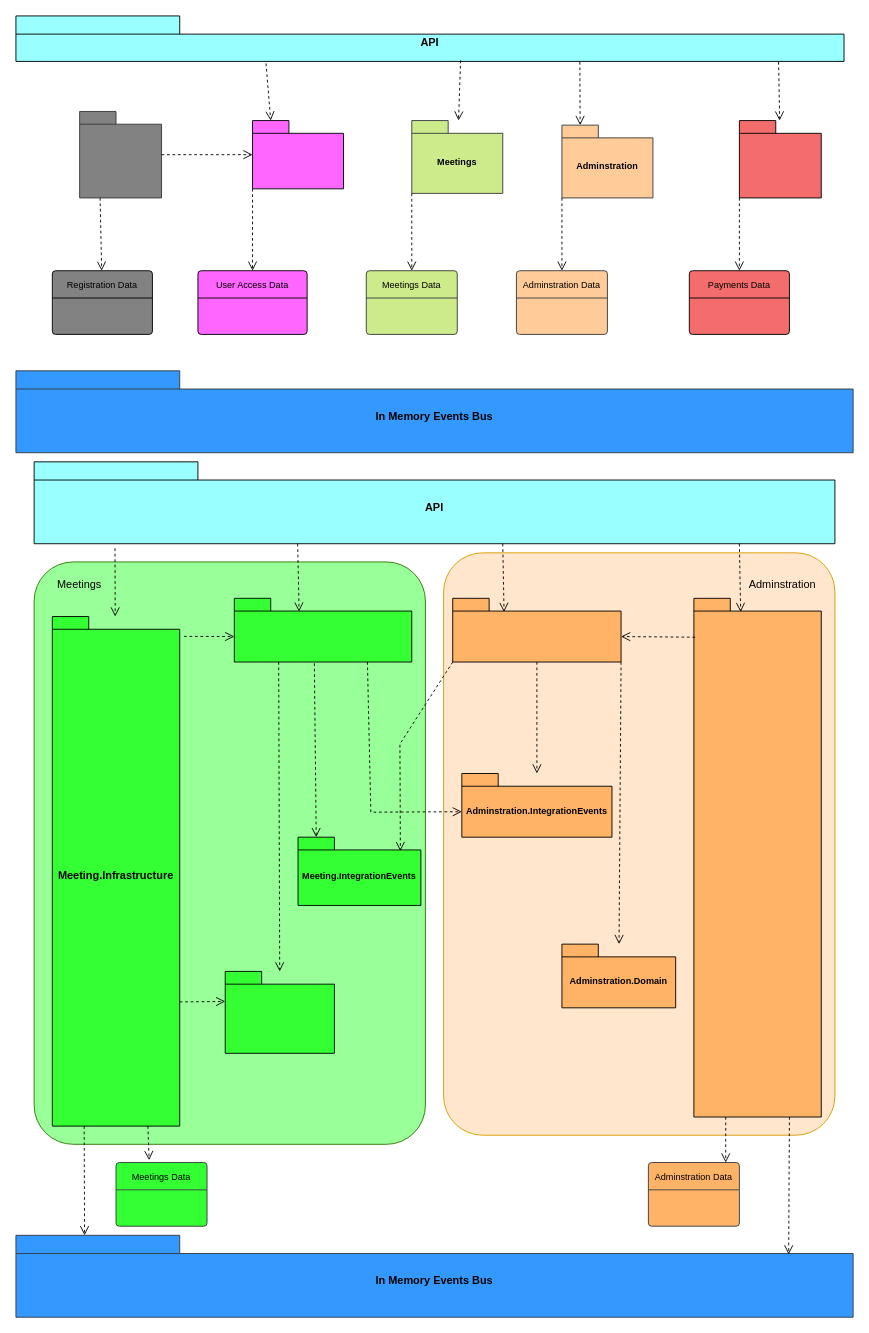
The diagram is 869 pixels wide and 1333 high, and some of its shapes have lost their labels. Each missing label, with the centre of its shape:
"Adminstration.Application" belongs at pixel 536 629.
"Adminstration.Infrastructure" belongs at pixel 757 857.
"Meeting.Application" belongs at pixel 322 629.
"Meeting.Domain" belongs at pixel 279 1012.
"Payments" belongs at pixel 779 159.
"Registration" belongs at pixel 120 154.
"User Access" belongs at pixel 298 154.
